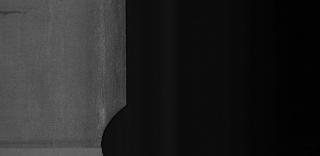welding line: (1, 143, 108, 153)
